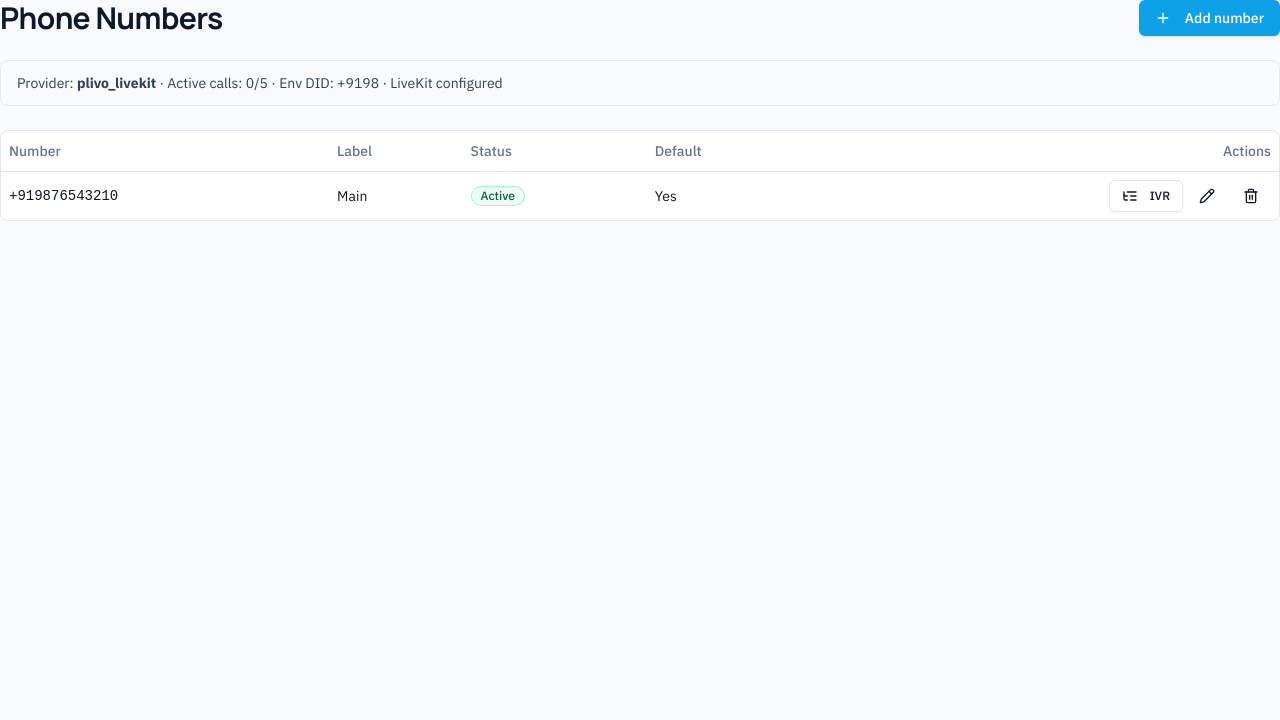
Test: TelephonyNumbers › opens add dialog when telephony is enabled
Click the button with test id "telephony-add-number": x=1209, y=18 [1139,0,1279,36]
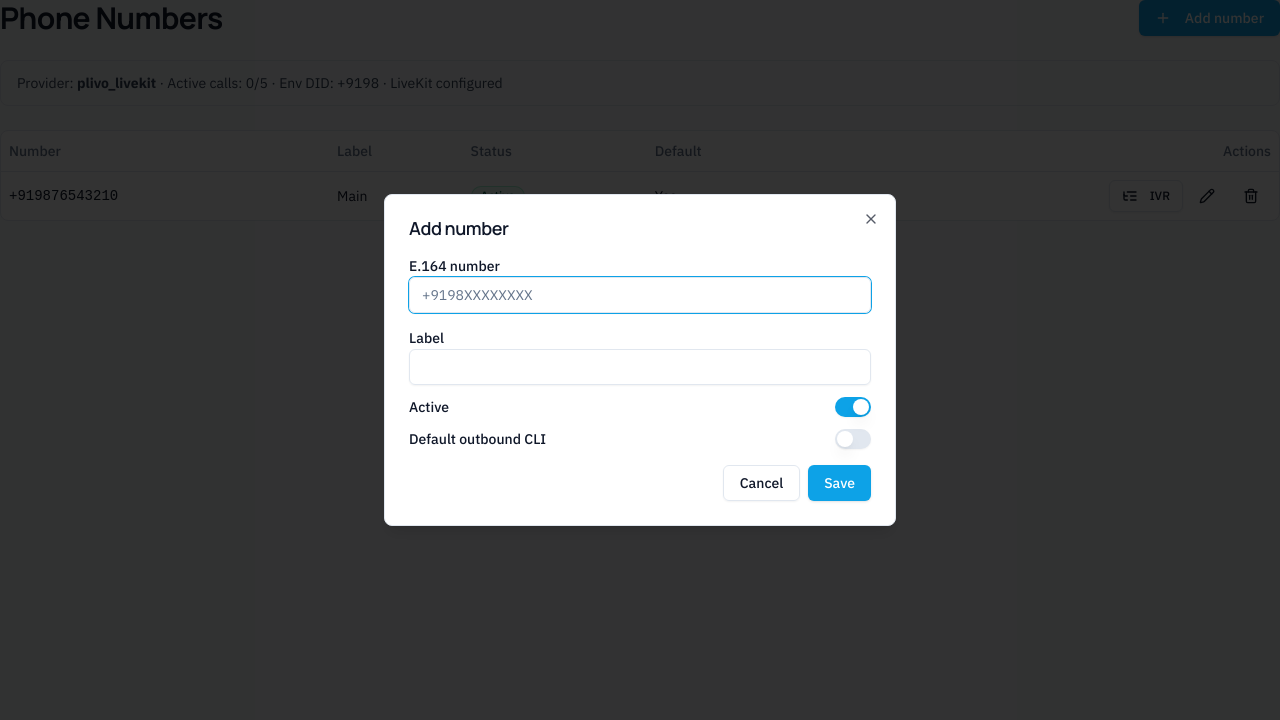
Expected: the dialog with test id "telephony-number-dialog" is shown, [384,194,896,526]
Expected: the field with test id "telephony-e164" is shown, [409,277,871,313]
